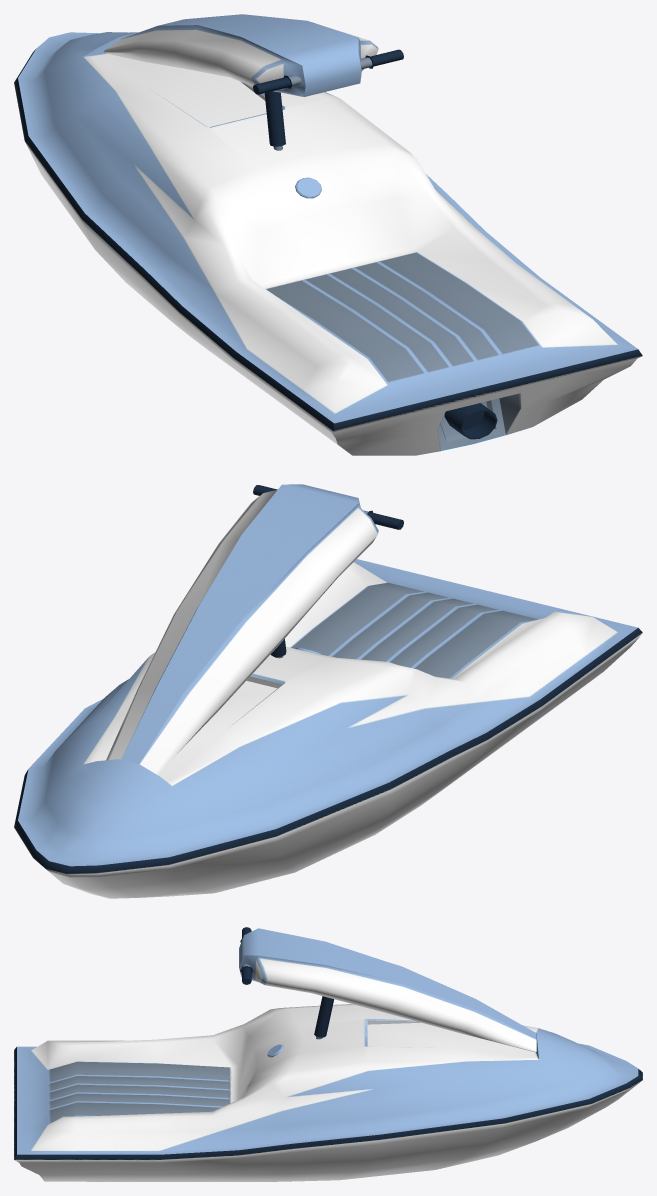
Rendered from jetski.obj.
3 views of the same model, one above another, from view 1: azimuth 30°, elevation 25°; view 2: azimuth 150°, elevation 25°; view 3: azimuth 270°, elevation 25° (orthographic). The views are drawn at different scales.
Visible parts, largest first — view 1: jetski:jetski; view 2: jetski:jetski; view 3: jetski:jetski.
Part boxes in pixels (x1=…): jetski:jetski: x1=14, y1=14, x2=642, y2=455; jetski:jetski: x1=14, y1=484, x2=642, y2=898; jetski:jetski: x1=14, y1=927, x2=642, y2=1181.
Size of the model in its own units: 17.71 by 15.7 by 42.83.
Materials: 1 (1 with a texture image).
